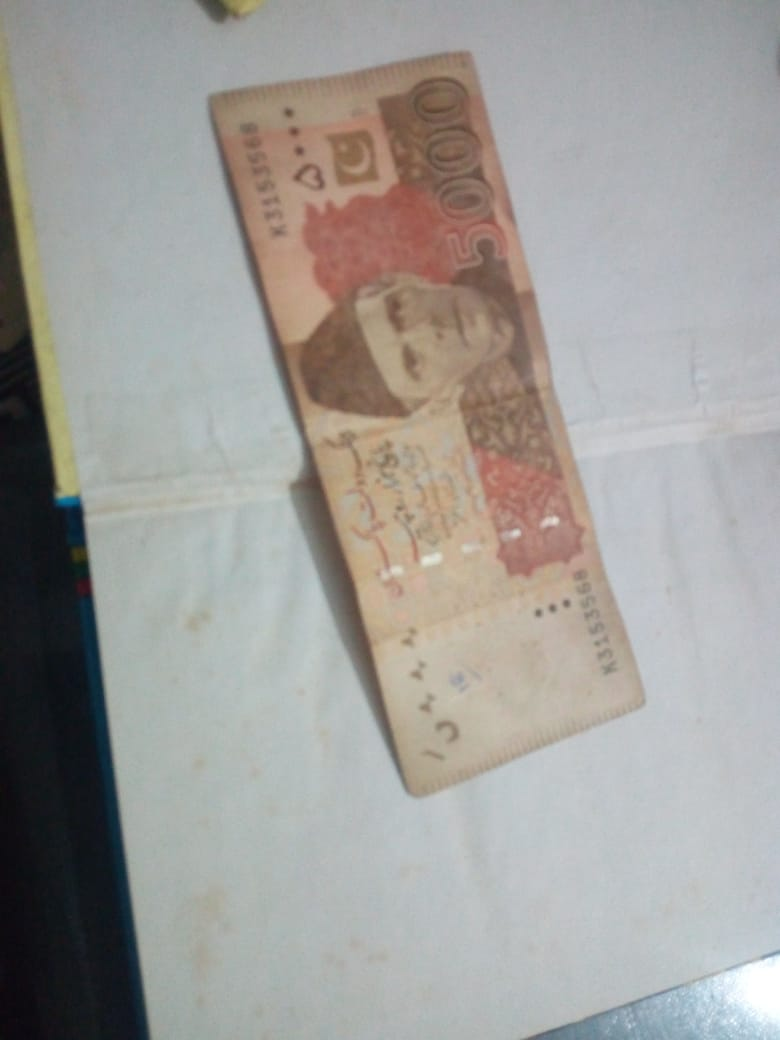5000 rupee: (180, 60, 600, 788)
